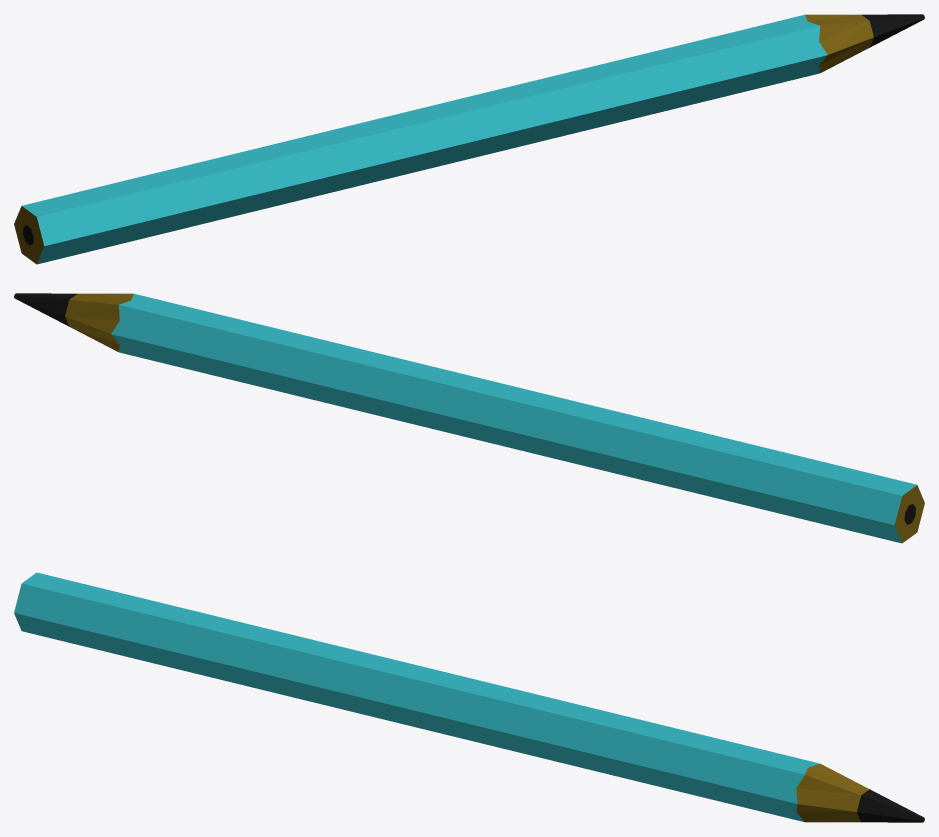
File: pencil.FBX
3 renders of one model, top to bottom at view 1: azimuth 30°, elevation 25°; view 2: azimuth 150°, elevation 25°; view 3: azimuth 330°, elevation 25°, orthographic.
Visible parts, largest first — view 1: pencil; view 2: pencil; view 3: pencil.
Boxes of the visible parts, x1,y1,x2,y2 form: pencil: [14, 14, 924, 264]; pencil: [14, 293, 924, 543]; pencil: [14, 572, 924, 822].
Bounding box in the file's own units: 0.0102 × 0.000516 × 0.000596.
